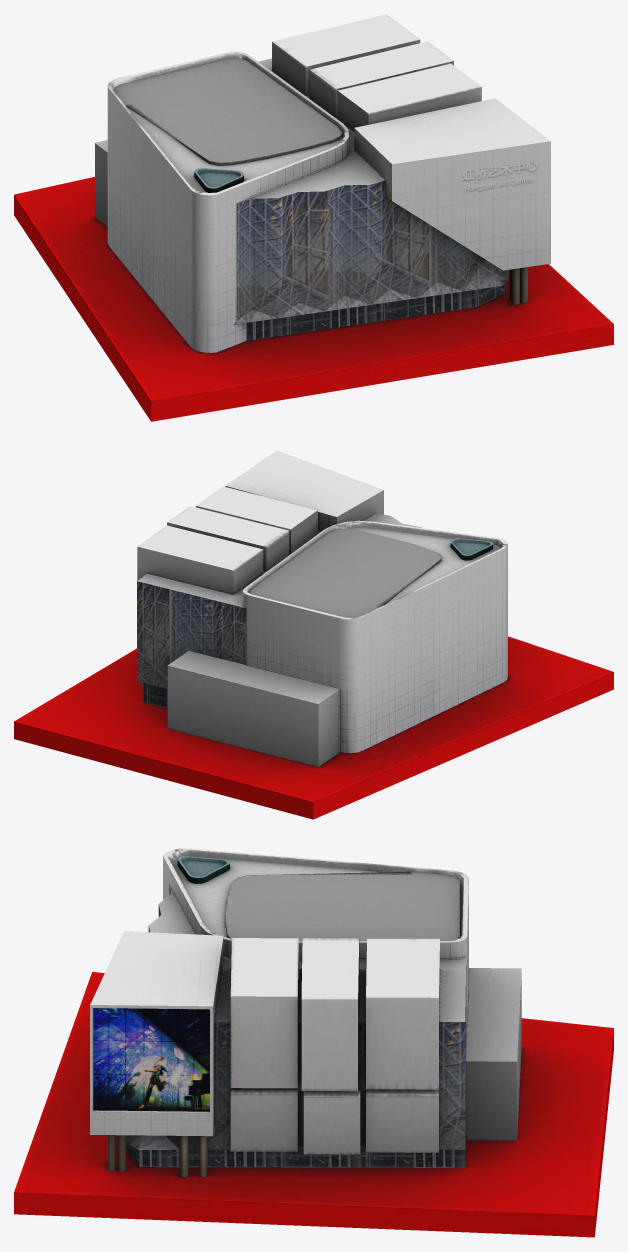
File: hqyszx.gltf
3 views of the same model, one above another, from view 1: azimuth 30°, elevation 25°; view 2: azimuth 150°, elevation 25°; view 3: azimuth 270°, elevation 25° (orthographic). The views are drawn at different scales.
Visible parts, largest first — view 1: hq; view 2: hq; view 3: hq.
Part boxes in pixels (x1,y1,x2,y2): hq: (14, 14, 613, 421); hq: (14, 450, 613, 819); hq: (14, 848, 613, 1237).
Bounding box in the file's own units: 46.16 × 17.87 × 48.03.
1 material, 1 textured.
